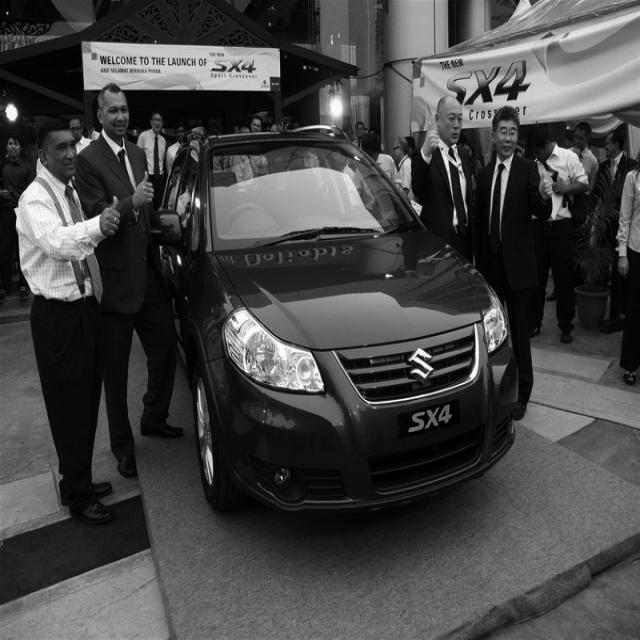car: (149, 128, 519, 514)
